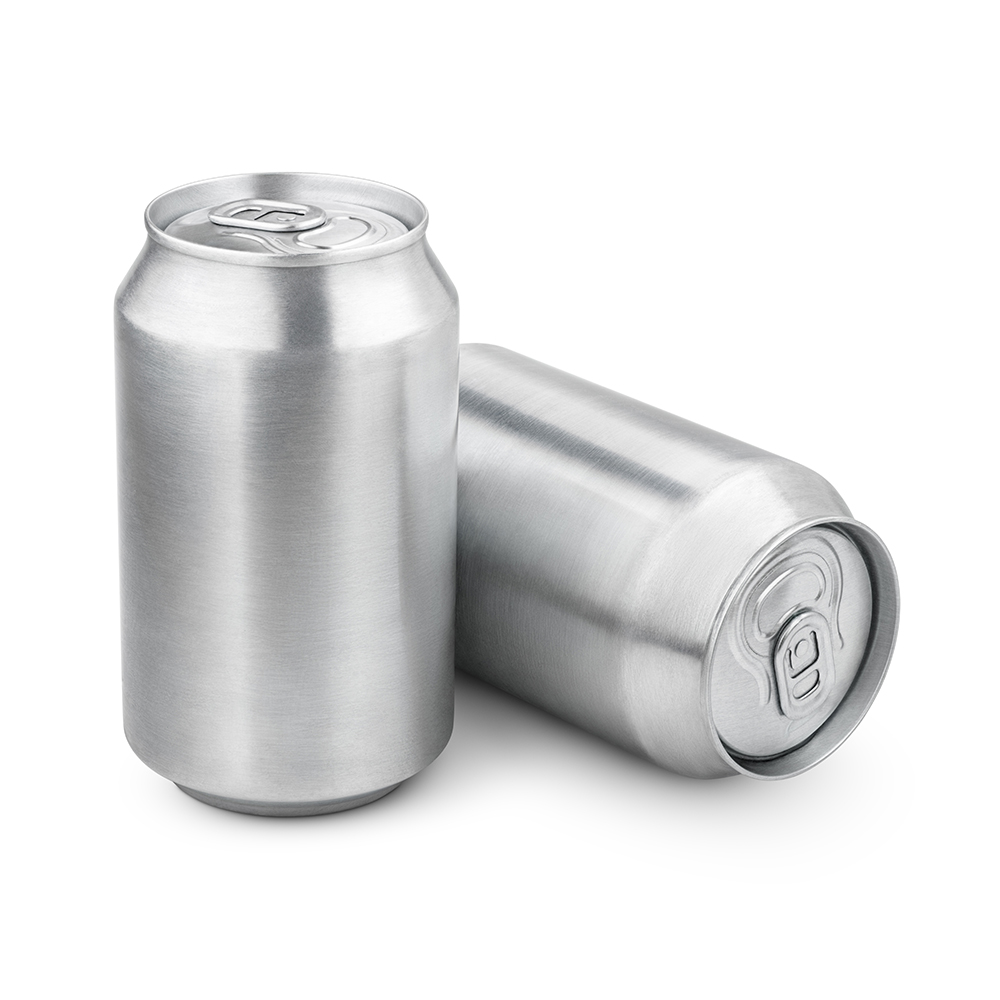cylinder: (113, 173, 460, 818), (460, 342, 901, 782)
